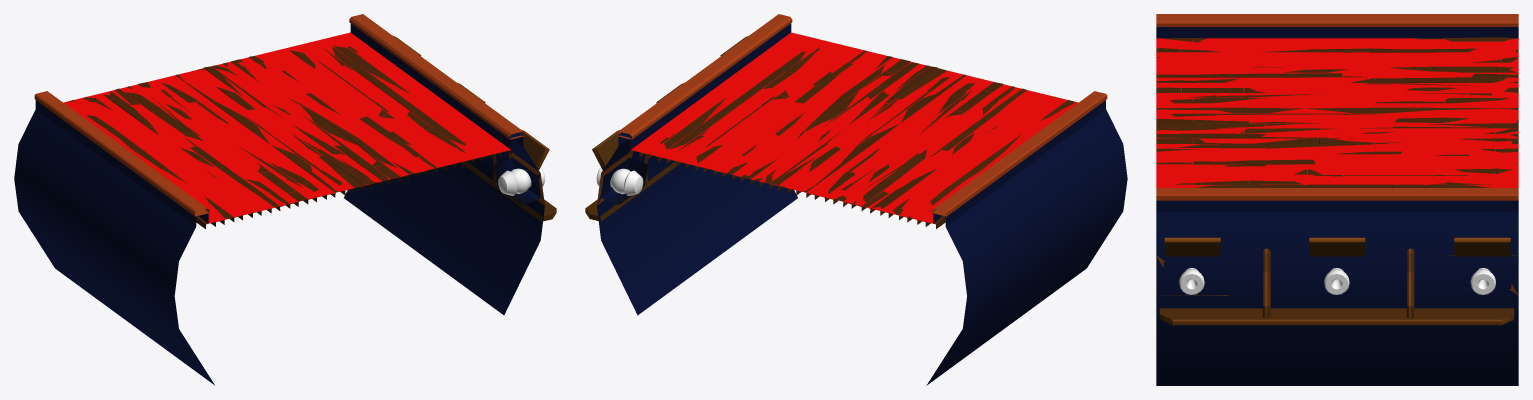
The model's file is Hull_Center.fbx.
The picture shows the model from 3 angles, left to right: view 1: azimuth 30°, elevation 25°; view 2: azimuth 150°, elevation 25°; view 3: azimuth 270°, elevation 25°; orthographic projection. The views are drawn at different scales.
Visible parts, largest first — view 1: Hull_Center_Cannon, Hull_Center_Projector, Hull_Center_Clear; view 2: Hull_Center_Cannon, Hull_Center_Projector, Hull_Center_Clear; view 3: Hull_Center_Cannon, Hull_Center_Projector, Hull_Center_Clear.
Part boxes in pixels (<box>): Hull_Center_Cannon: <box>14,14,556,385</box>; Hull_Center_Projector: <box>63,32,510,223</box>; Hull_Center_Clear: <box>344,29,544,309</box>; Hull_Center_Cannon: <box>585,14,1127,385</box>; Hull_Center_Projector: <box>631,32,1078,223</box>; Hull_Center_Clear: <box>597,24,797,314</box>; Hull_Center_Cannon: <box>1156,14,1518,385</box>; Hull_Center_Projector: <box>1156,38,1518,187</box>; Hull_Center_Clear: <box>1156,200,1518,385</box>.
Bounding box in the file's own units: 25 × 11 × 17.85.
